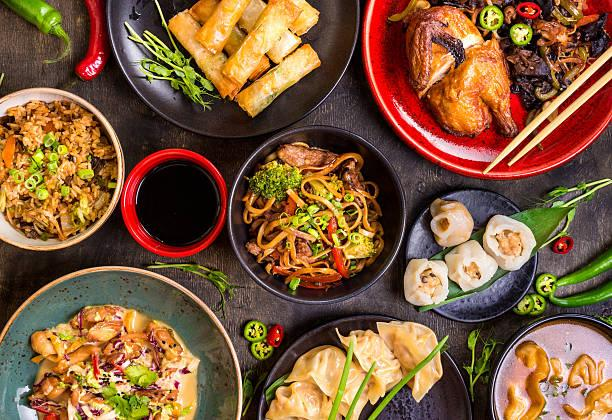Braised Crucian Carp: (365, 0, 608, 179), (0, 266, 239, 417), (107, 1, 353, 141), (226, 124, 398, 302), (257, 314, 470, 418), (3, 87, 124, 248), (404, 188, 537, 322), (481, 307, 612, 420)
